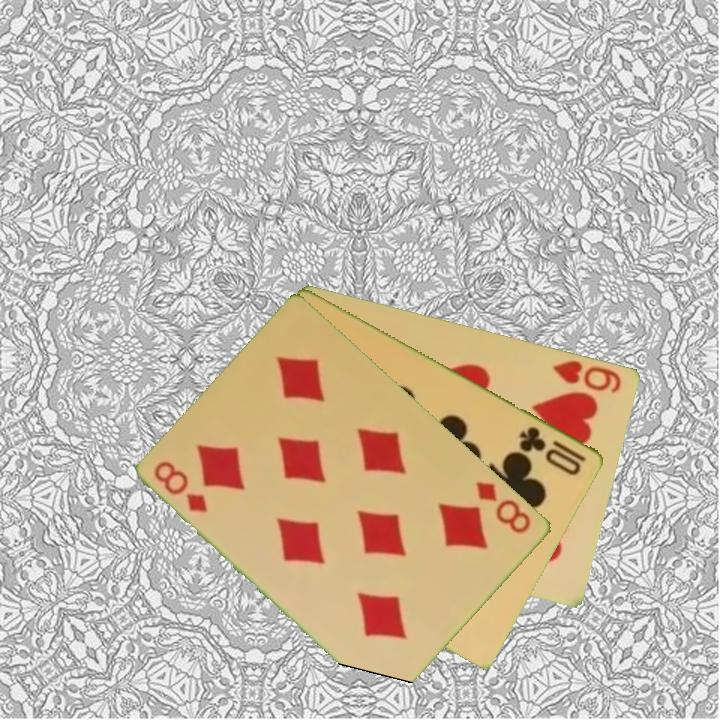10c: (516, 422, 590, 479)
6h: (549, 356, 625, 396)
8d: (472, 477, 535, 537), (150, 457, 211, 516)
